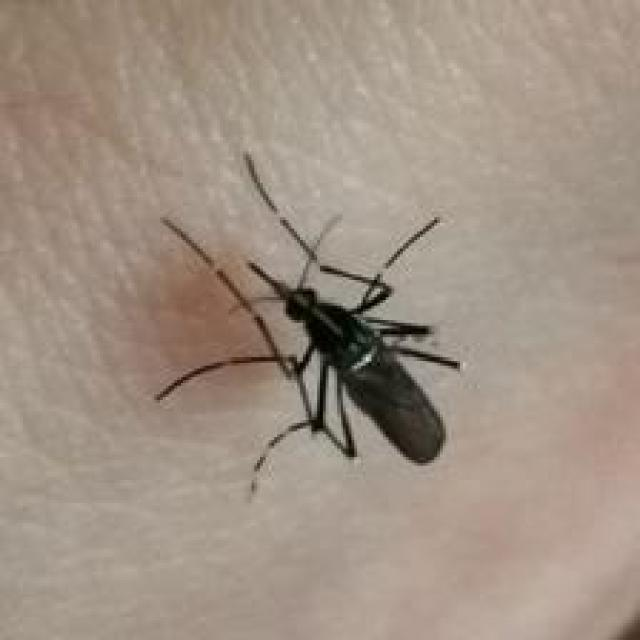Aedes albopictus: (153, 150, 464, 499)
